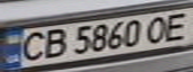0: (121, 17, 148, 47)
5: (69, 24, 93, 55)
6: (106, 19, 127, 51)
8: (90, 21, 112, 53)
B: (36, 26, 69, 60)
C: (12, 29, 51, 63)
E: (157, 10, 193, 43)
O: (142, 14, 175, 45)
